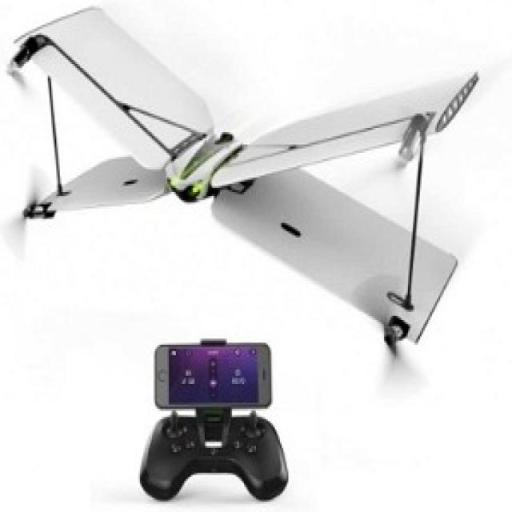uav: (5, 2, 485, 336)
